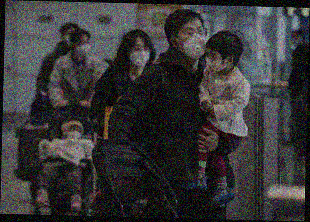with_mask: (178, 23, 206, 59), (131, 41, 151, 67), (205, 48, 224, 74), (77, 35, 94, 58), (65, 125, 83, 141)
